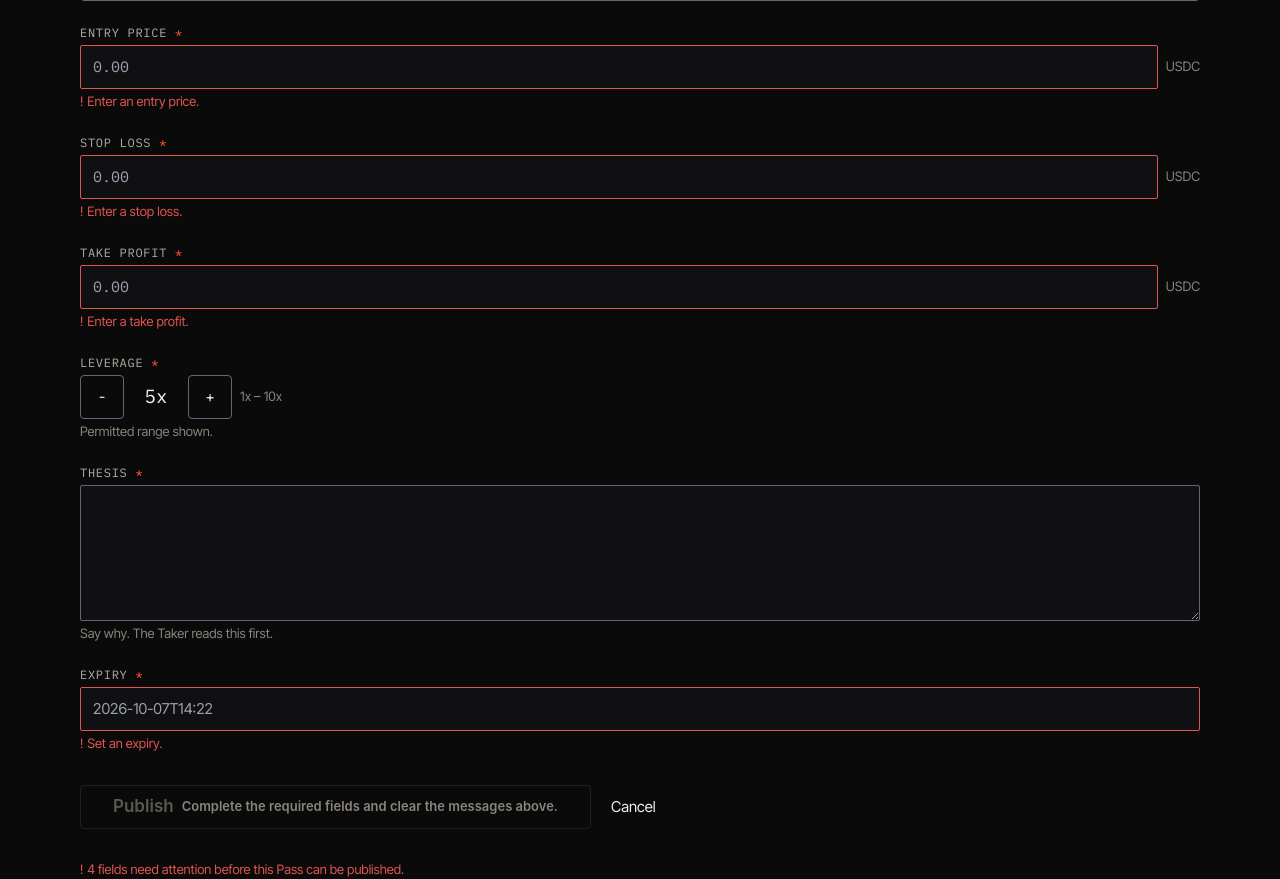
Test case: Create Pass preview and publish (§10.5) › reads the expiry back human-readably without changing the sent value
(page scrolled)
Type "2099-01-01T00:00" into the field labelled "Expiry *" at (640, 709), box top-left (80, 687), bottom-right (1200, 731)
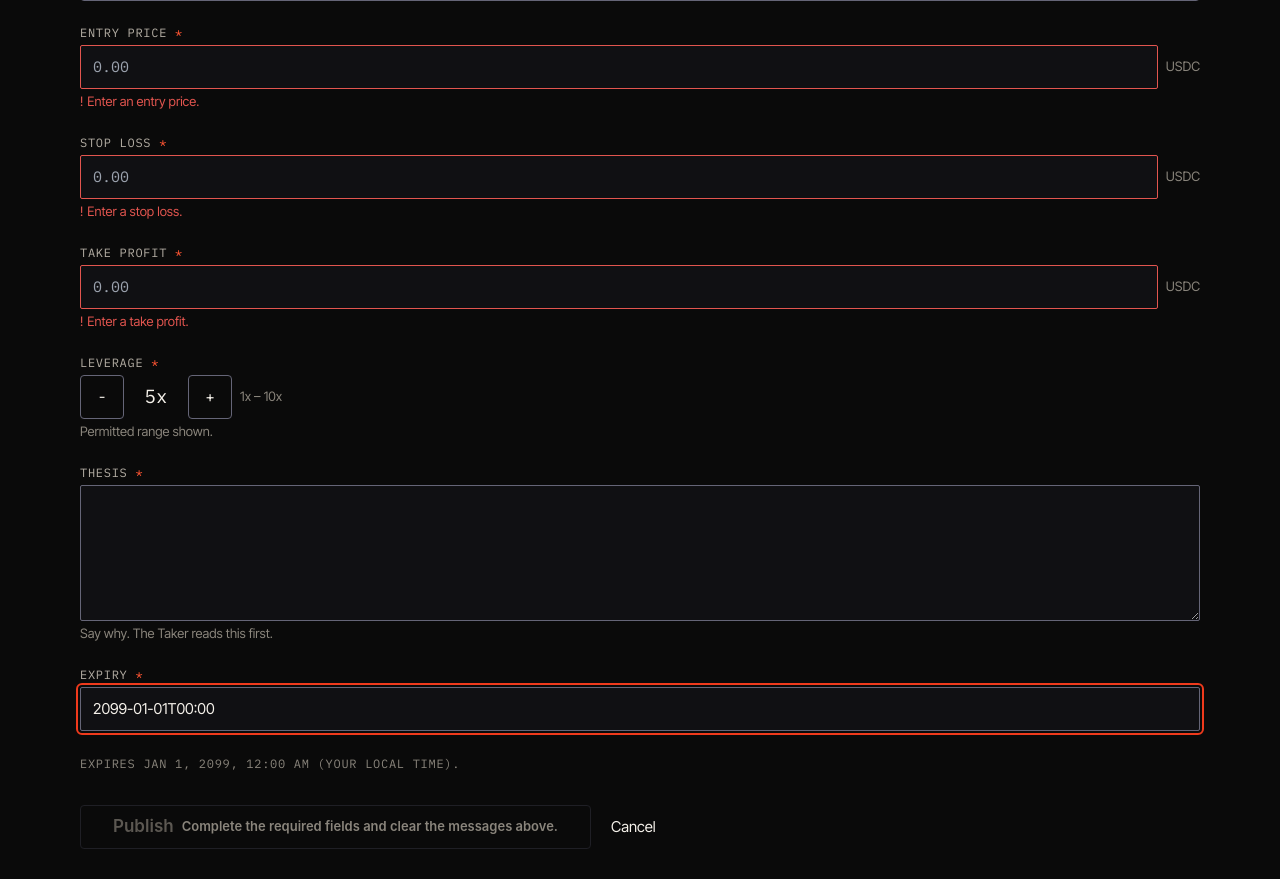
Expected: the text "Expires Jan 1, 2099, 12:00 AM (your local time)." is shown, top-left (80, 756), bottom-right (460, 771)
